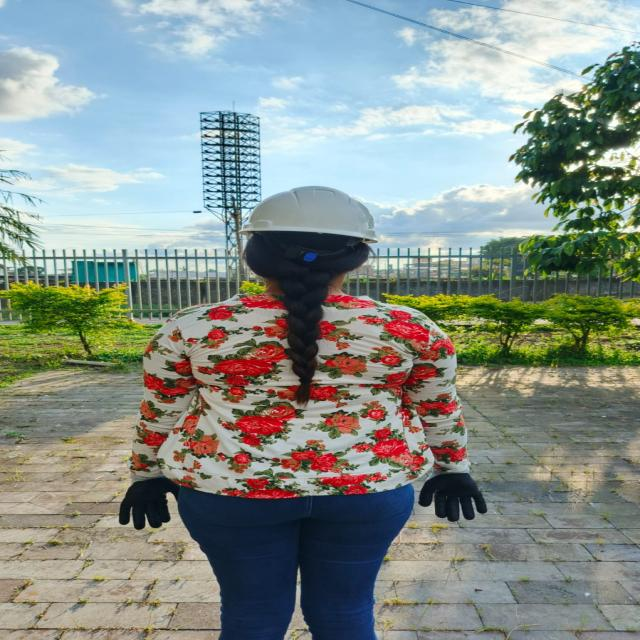gloves: (419, 473, 486, 522), (118, 477, 179, 530)
helmet: (241, 186, 377, 243)
